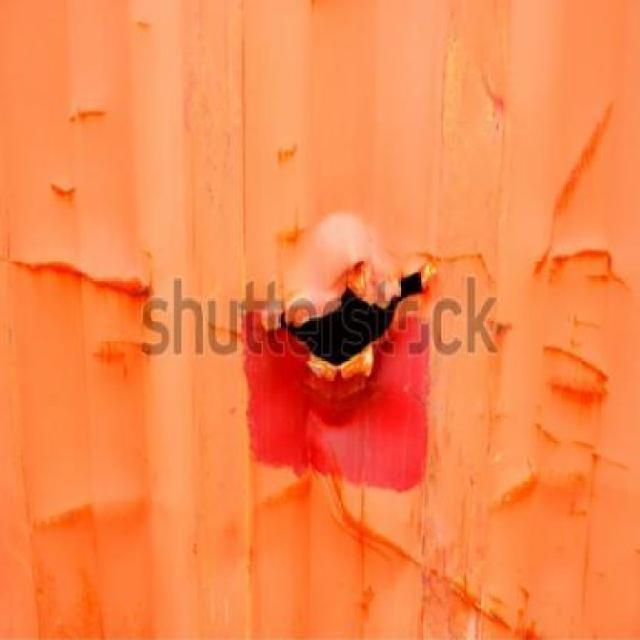hole: (279, 264, 435, 381)
rust: (6, 256, 154, 304), (67, 106, 109, 126)
